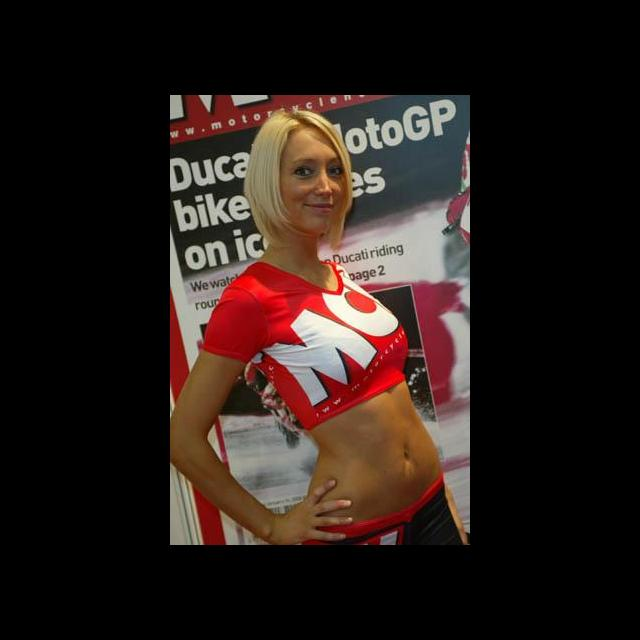NO-Hardhat: (253, 113, 346, 152)
NO-Mask: (275, 177, 341, 231)
NO-Safety Vest: (206, 257, 441, 489)
Person: (170, 110, 470, 545)
